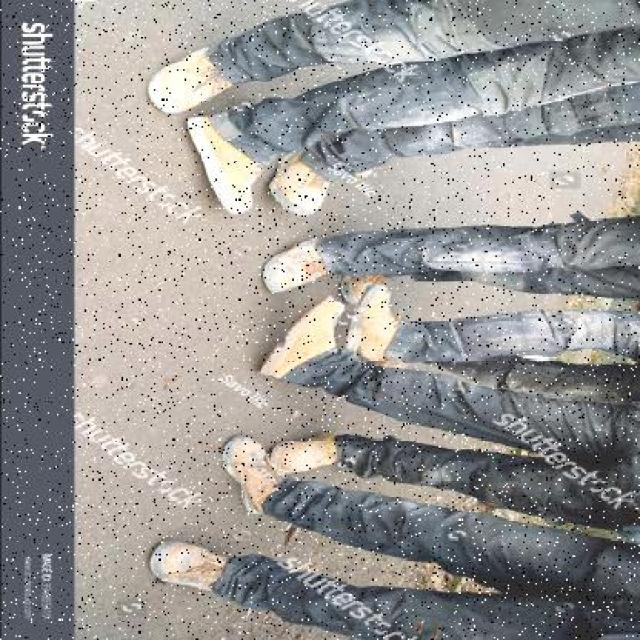shoes: (185, 116, 260, 216), (138, 43, 242, 115), (249, 294, 336, 378), (263, 149, 334, 217), (222, 439, 284, 512), (342, 287, 402, 361), (152, 538, 236, 590), (252, 244, 325, 293), (270, 435, 345, 474)
